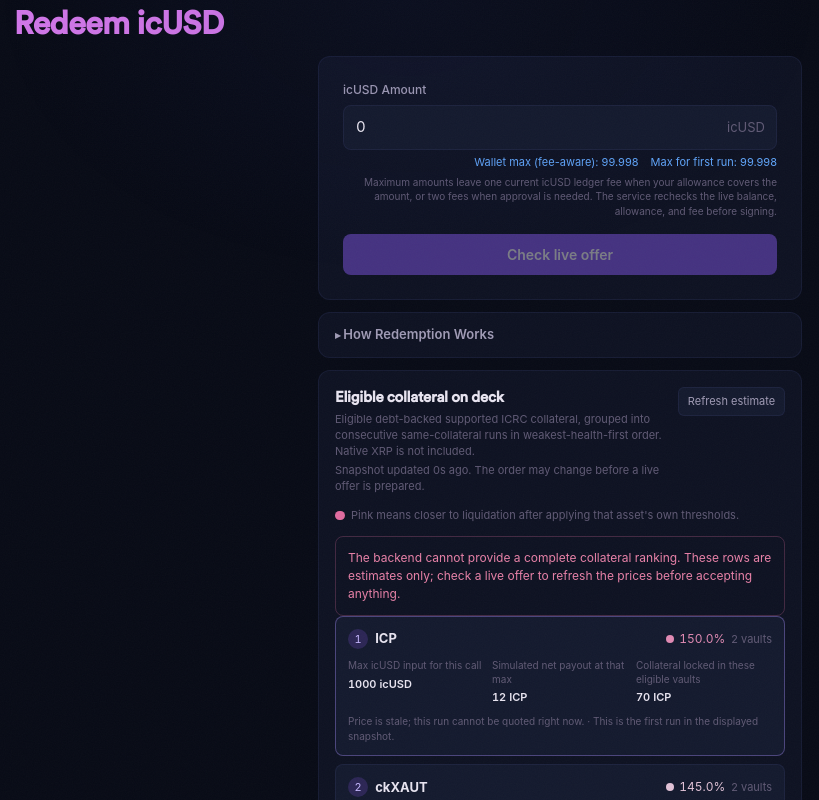
it: redemption route quote and queue safety › labels cached estimates with source-price age, not quote calculation time
Replace the text in the number field with id "icusd-amount" with "1" at (560, 127), box left=343, top=105, right=777, bottom=150
Wait 350 ms
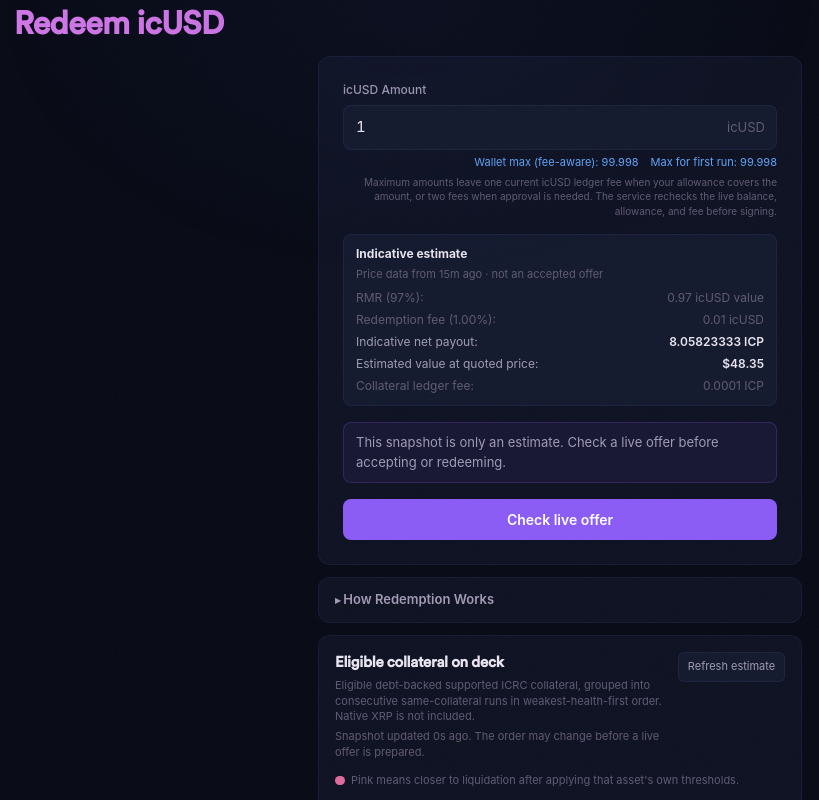
Result: the text "Price data from 15m ago" is shown at left=356, top=267, right=603, bottom=281
Result: the text "not an accepted offer" is shown at left=356, top=267, right=603, bottom=281
